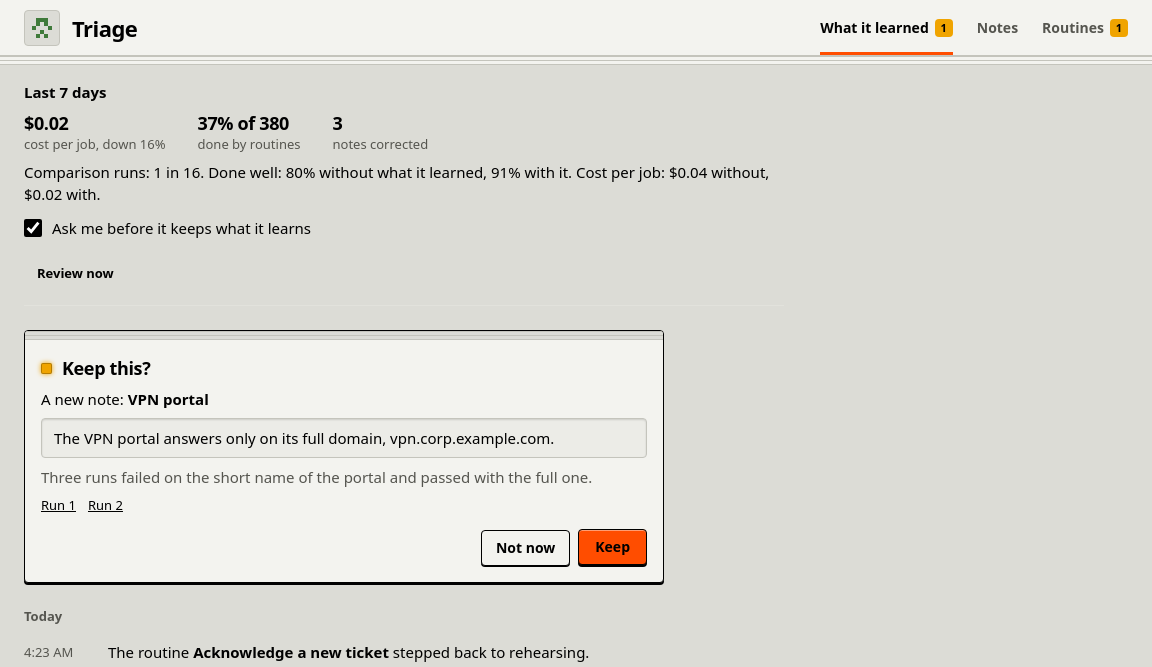
Test: the changes that wait › leaves a change with Not now, and says in a quiet line, not a notice, that its note changed since
This screenshot has width=1152, height=667.
Click the button "Not now" at (526, 548), box [481,530,570,566]
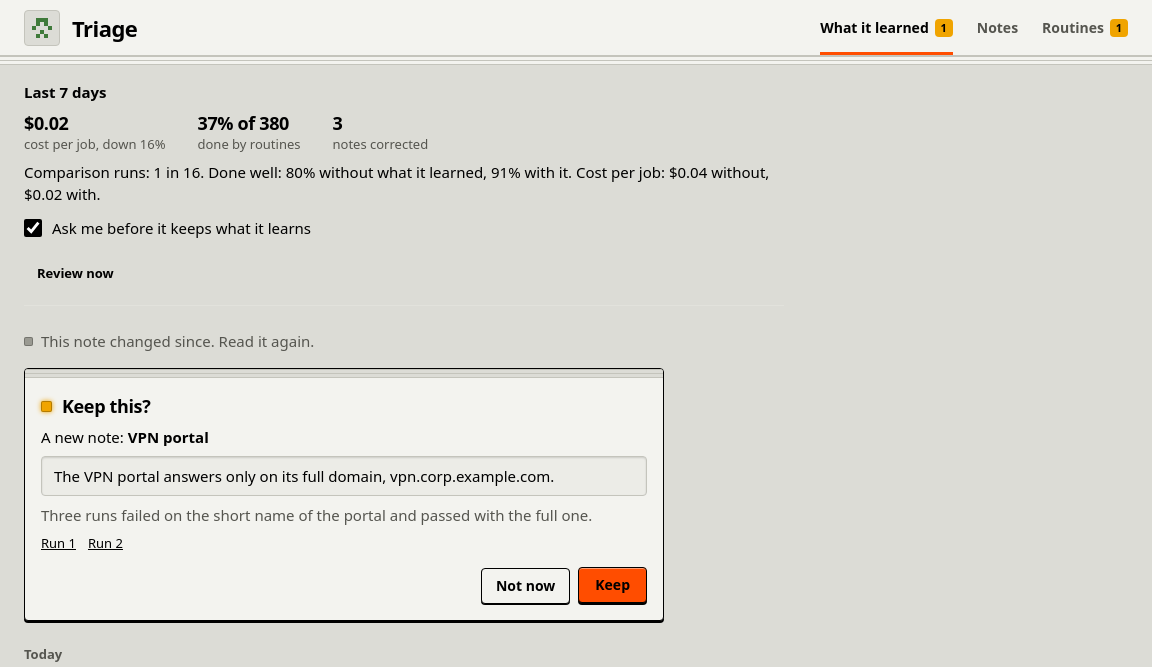
Expected: the message with class "rt-changed" reads "This note changed since. Read it again.", [41,331,314,351]
